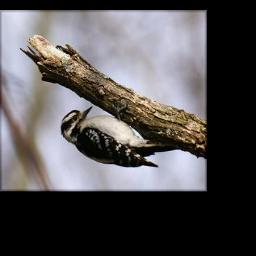Woodpecker: (53, 104, 180, 173)
